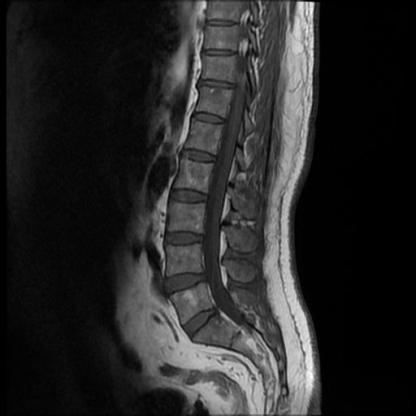Disc Bulgerotation: (181, 310, 223, 334)
Disc Relaxationrotation: (158, 185, 213, 301), (182, 310, 223, 334)
